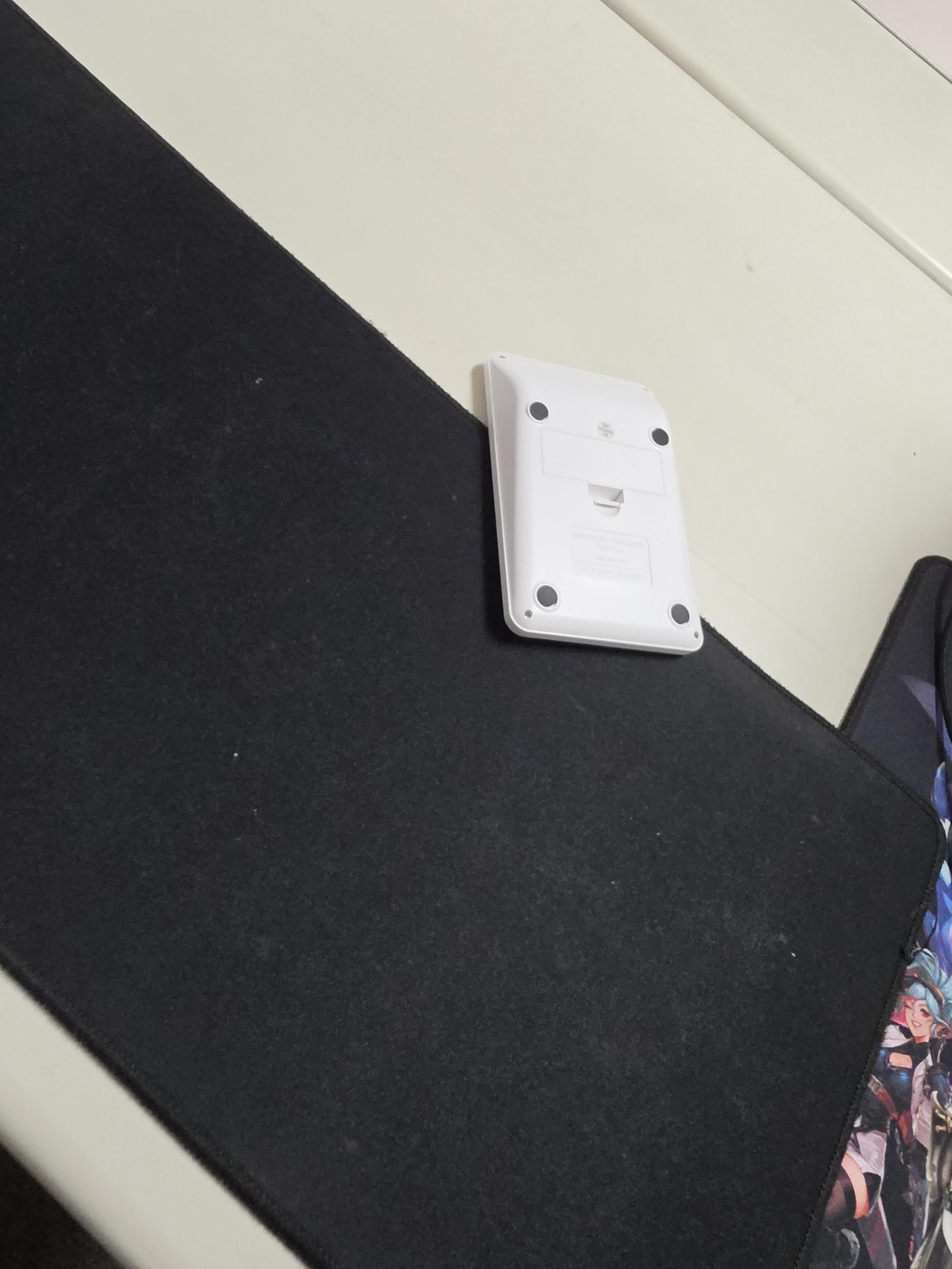calculator: (484, 350, 704, 655)
